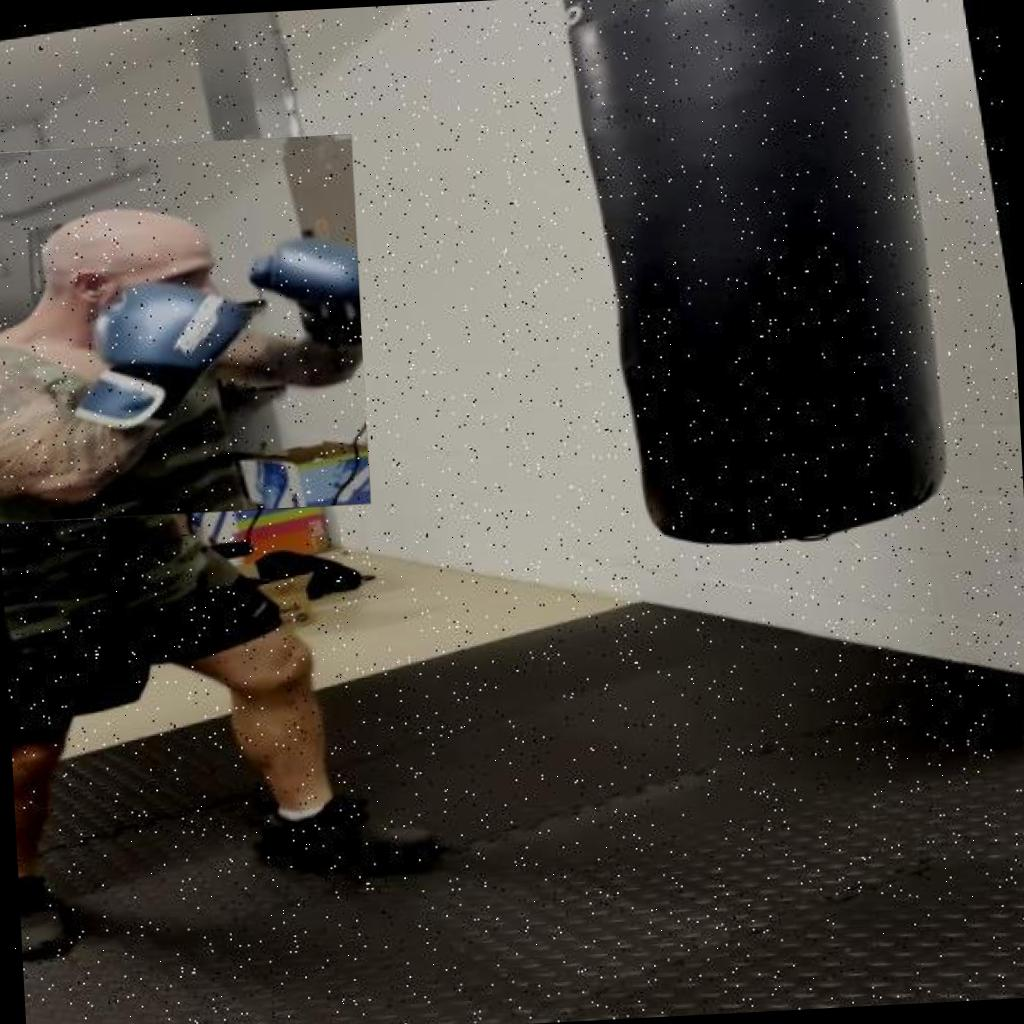bag: (539, 0, 962, 563)
no punch: (0, 134, 370, 523)
